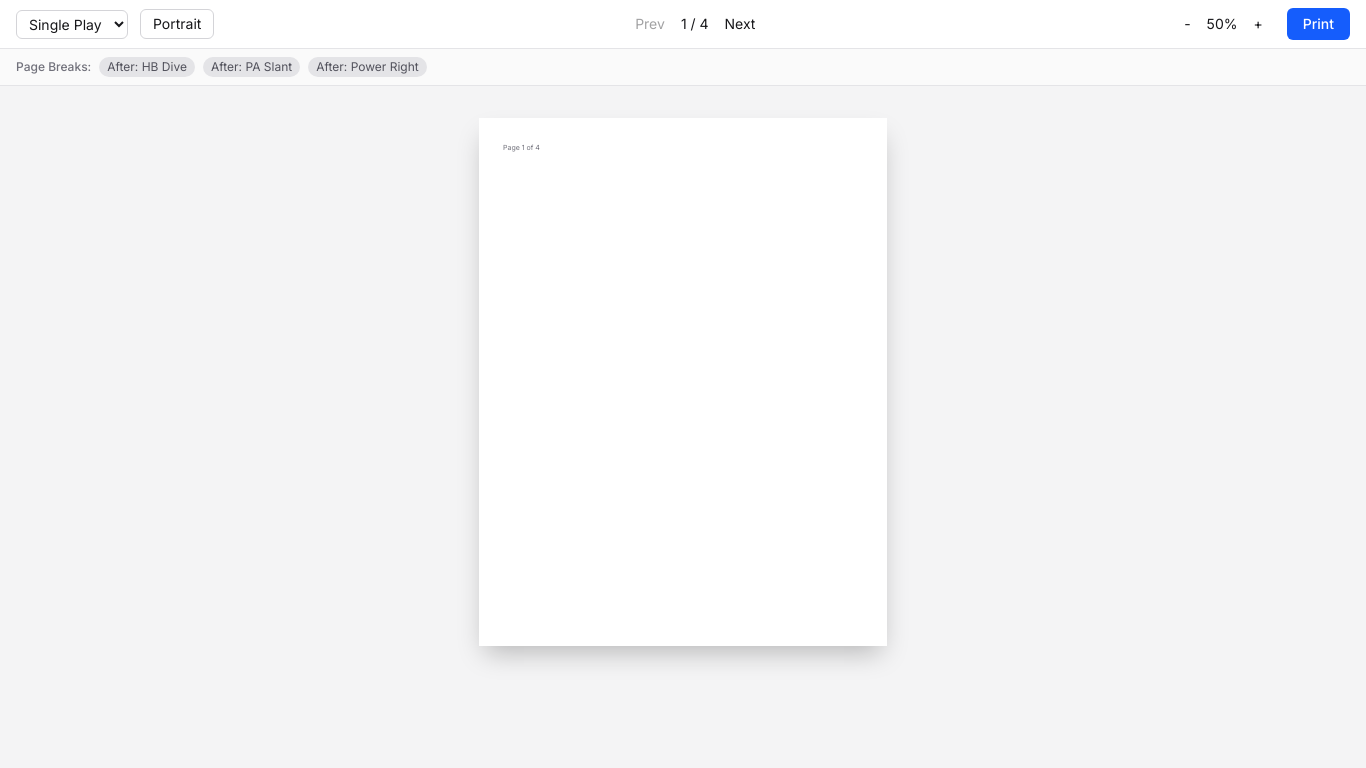
Test: PrintPreviewAdvanced › toggles orientation when button is clicked
Click the button with test id "orientation-toggle": (177, 24) [140,9,214,39]
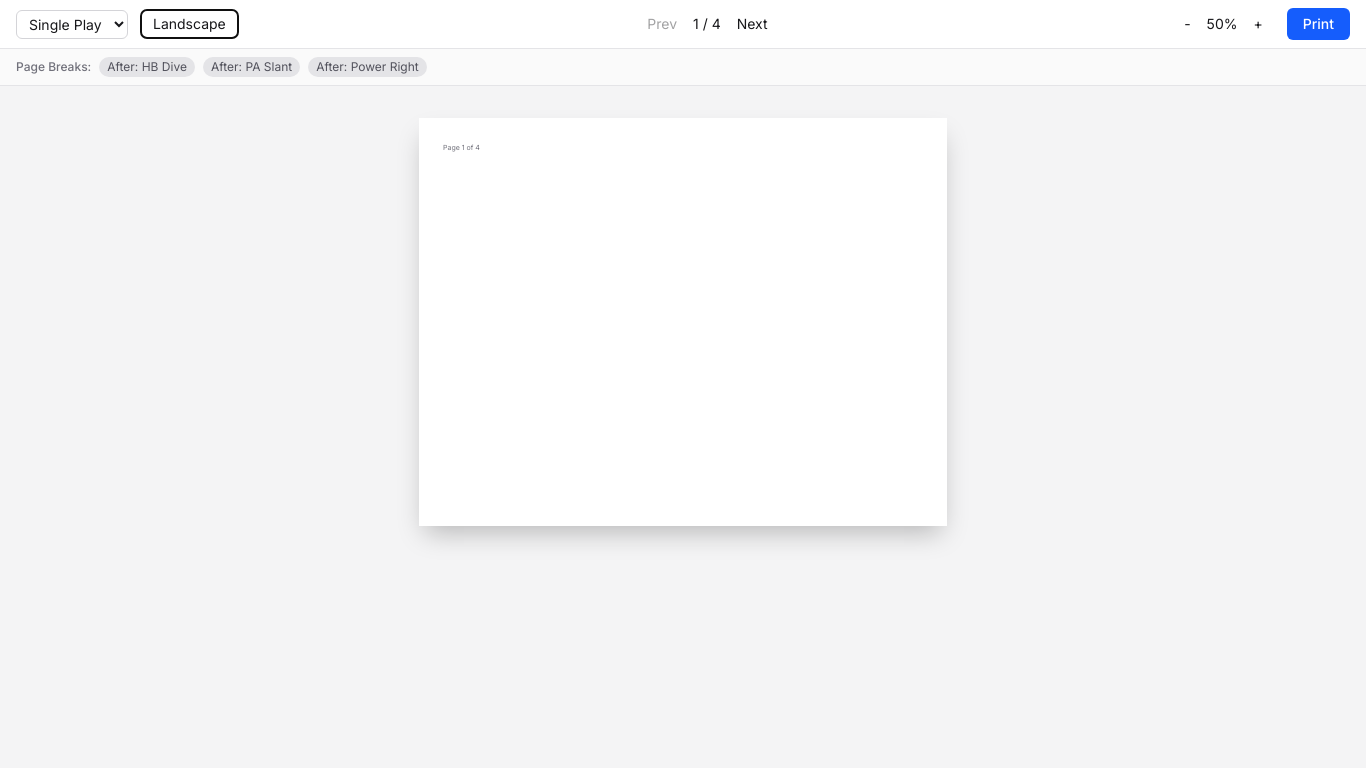
Check: the button with test id "orientation-toggle" reads "Landscape"
Click the button with test id "orientation-toggle": (189, 24) [140,9,239,39]
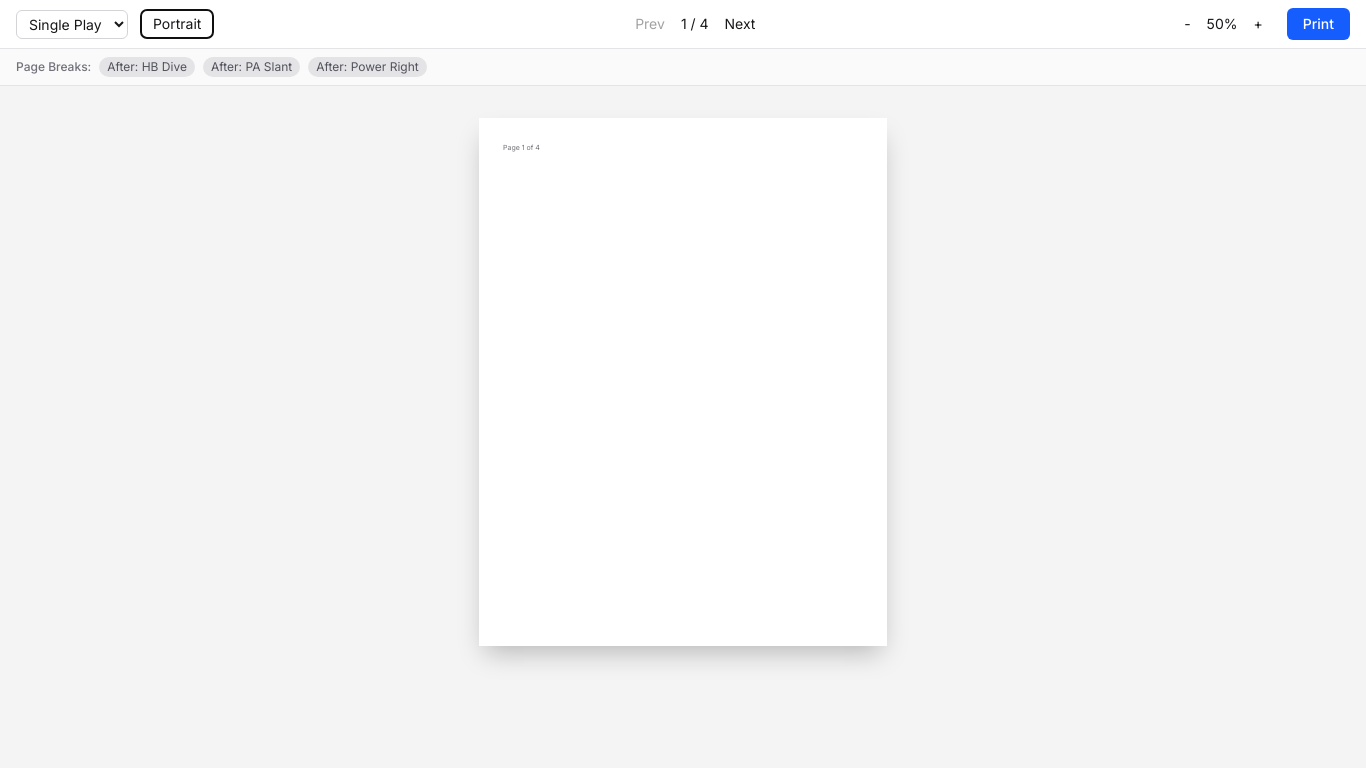
Check: the button with test id "orientation-toggle" reads "Portrait", box [140,9,214,39]
